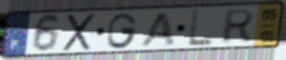6: (29, 13, 64, 55)
A: (137, 10, 176, 49)
G: (106, 12, 140, 51)
L: (186, 8, 215, 48)
R: (219, 8, 257, 45)
X: (61, 11, 98, 53)
